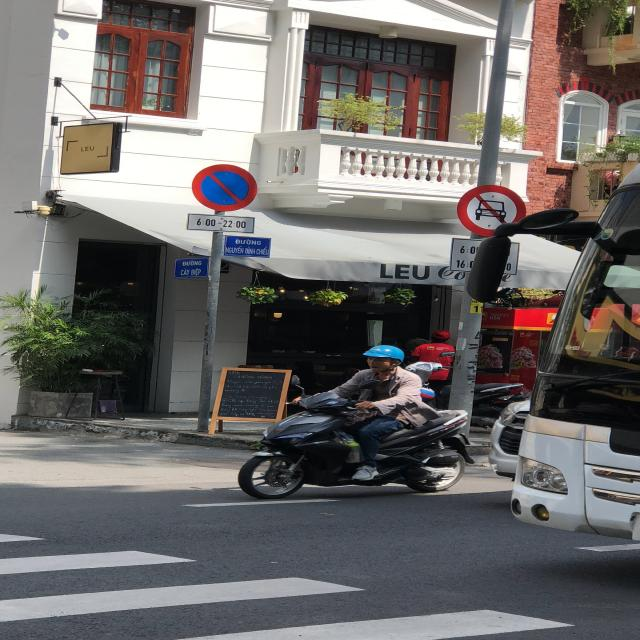Bien bao cam do xe: (192, 159, 265, 213)
Bien bao cam xe oto: (453, 180, 524, 233)
